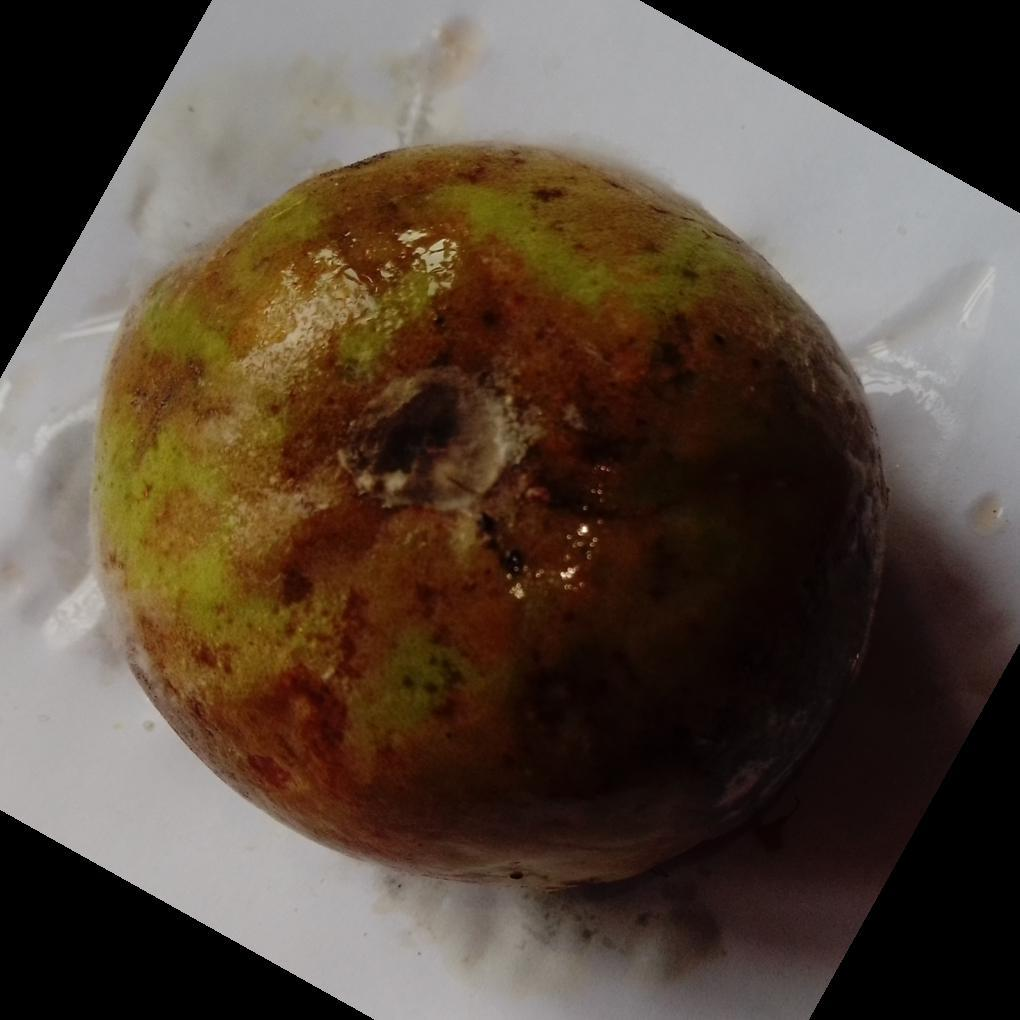FreshOrange: (92, 142, 890, 897)
